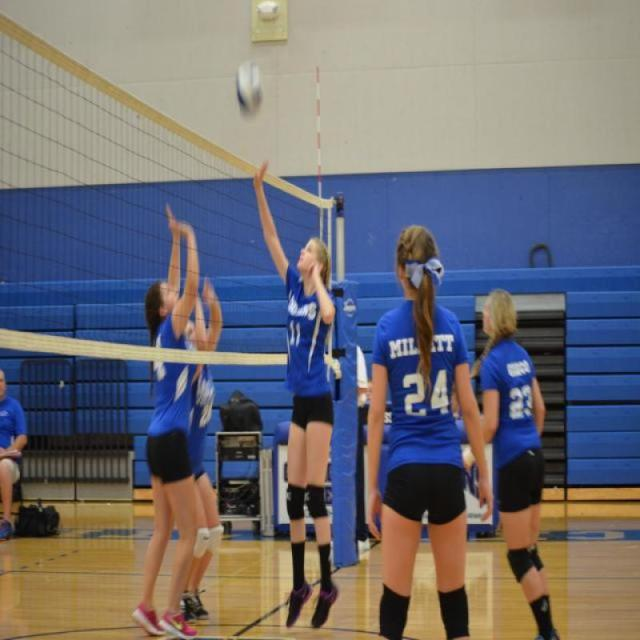volleyball: (234, 60, 265, 117)
